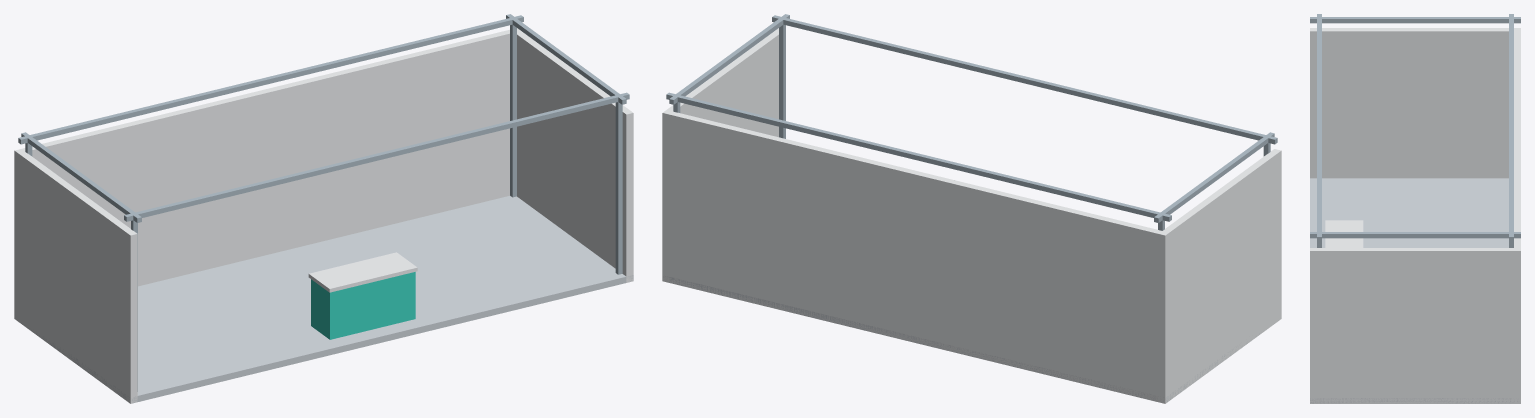
3 views of the same model, side by side, from view 1: azimuth 30°, elevation 25°; view 2: azimuth 150°, elevation 25°; view 3: azimuth 270°, elevation 25° (orthographic). The views are drawn at different scales.
Visible parts, largest first — view 1: Exhibition Booth Concept; view 2: Exhibition Booth Concept; view 3: Exhibition Booth Concept.
Part boxes in pixels (x1,y1,x2,y2): Exhibition Booth Concept: (14, 14, 633, 403); Exhibition Booth Concept: (662, 14, 1281, 403); Exhibition Booth Concept: (1310, 14, 1520, 403).
Bounding box in the file's own units: 10 × 3.49 × 4.
